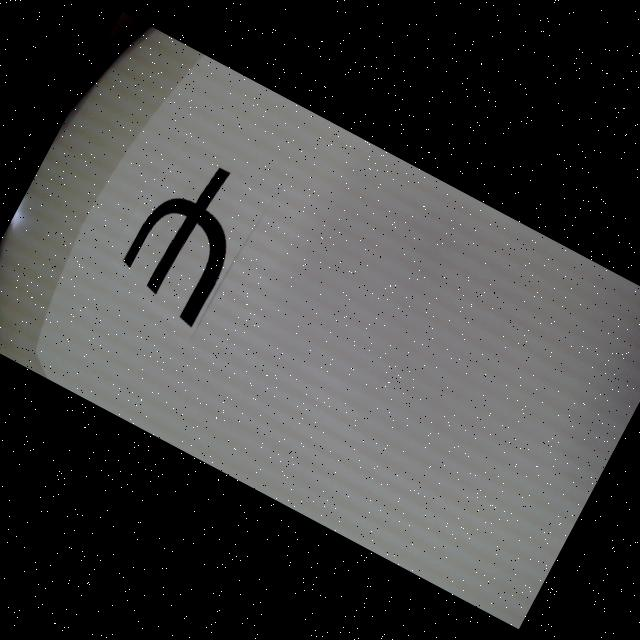PSI: (110, 146, 265, 328)
